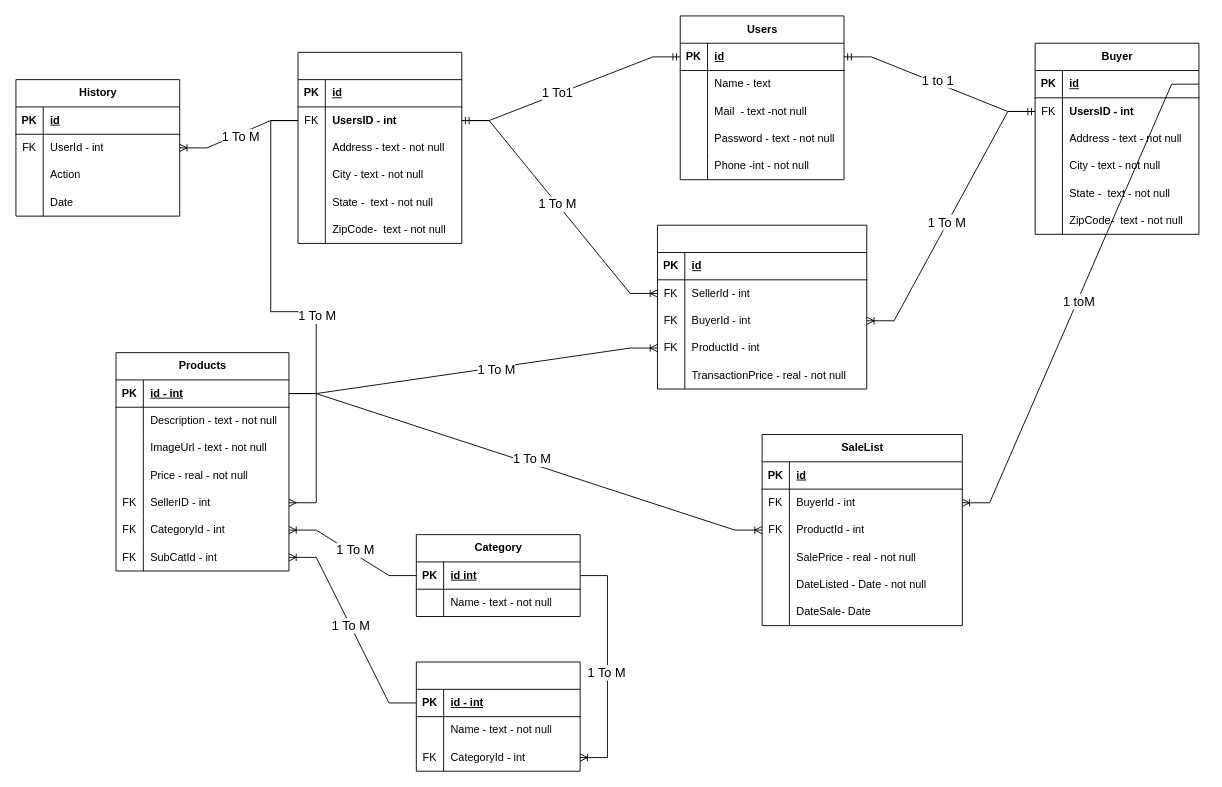
Image size: 1222x787. Some labels were removed from this diagram. The box of each missing label's shape, as (x1, y1, x2, y2) in pixels:
Sellers: (297, 51, 462, 243)
Subcategory: (415, 661, 580, 771)
Transactions: (657, 224, 867, 389)
